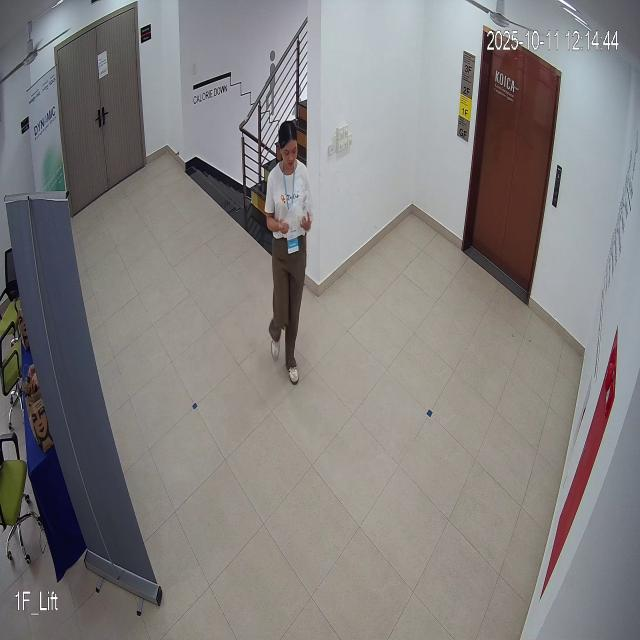face: (278, 118, 304, 178)
